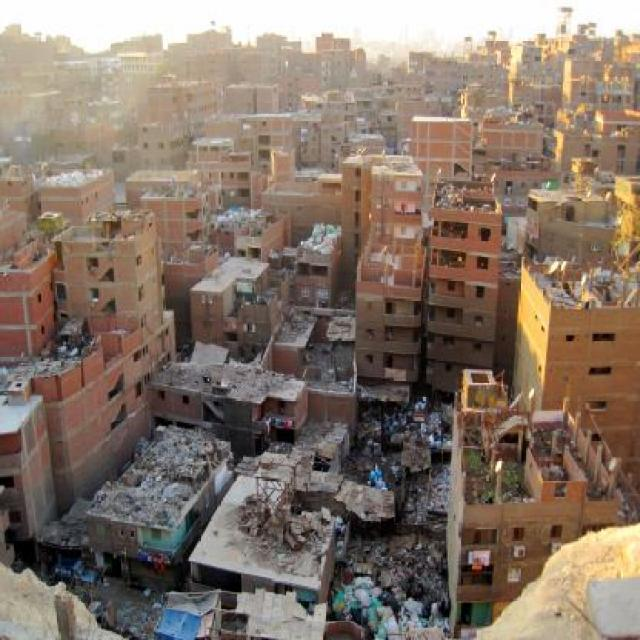garbage: (360, 386, 447, 639), (112, 428, 234, 531), (285, 302, 358, 398), (153, 354, 289, 402), (212, 203, 276, 234), (51, 316, 75, 379), (305, 215, 338, 258), (335, 580, 358, 633)
